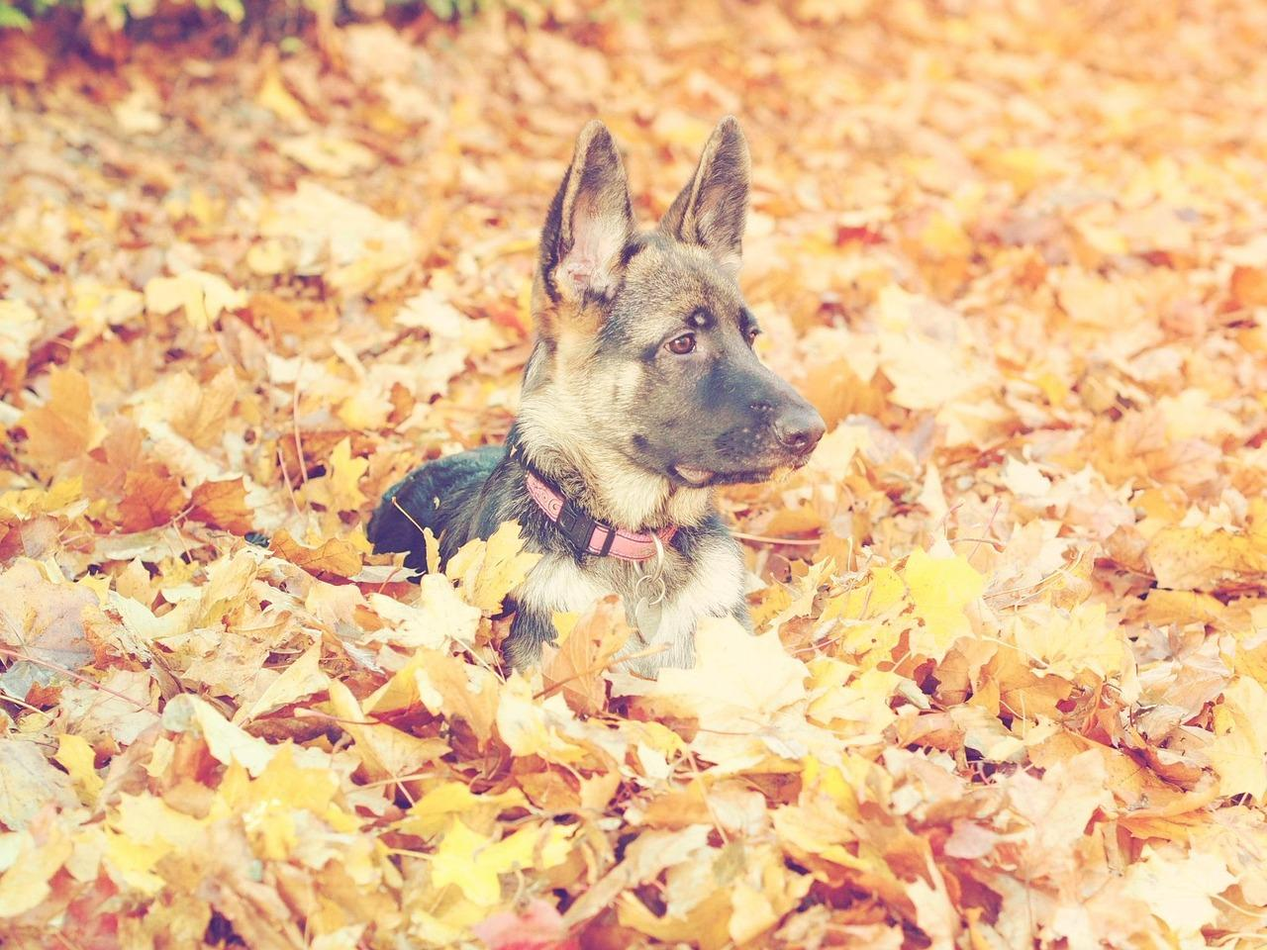german_shepherd: (525, 114, 838, 565)
